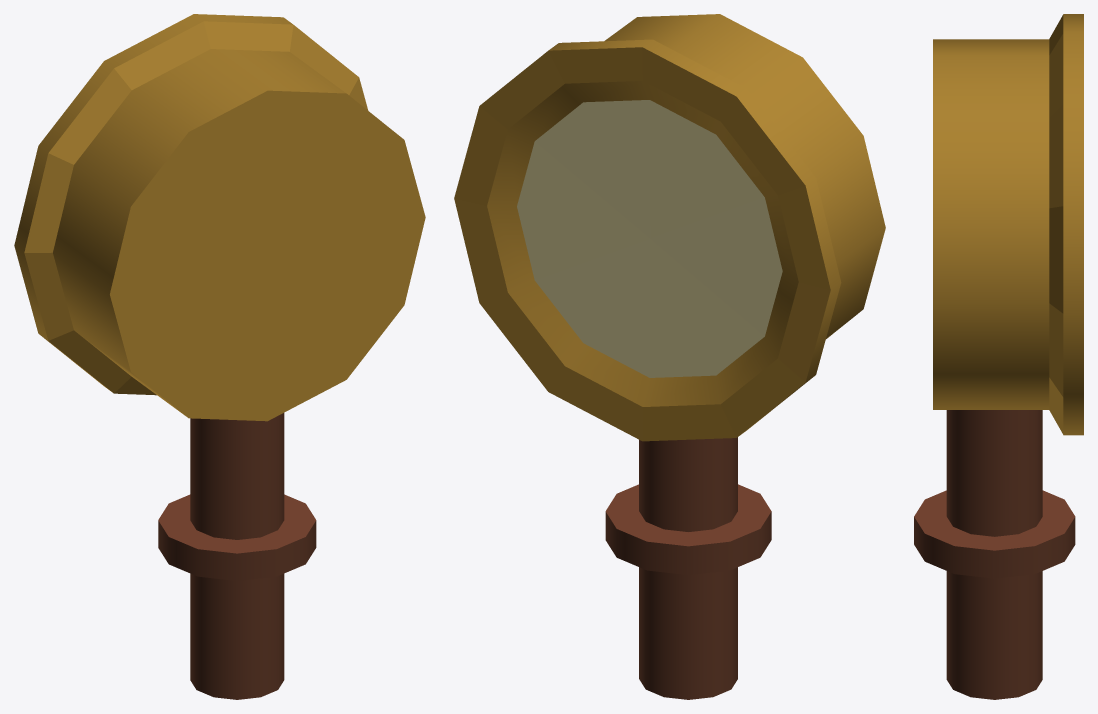
Rendered from relogio_pressao_001.fbx.
The picture shows the model from 3 angles, left to right: view 1: azimuth 30°, elevation 25°; view 2: azimuth 150°, elevation 25°; view 3: azimuth 270°, elevation 25°; orthographic projection. The views are drawn at different scales.
Visible parts, largest first — view 1: relogio_pressao_001; view 2: relogio_pressao_001; view 3: relogio_pressao_001.
Boxes of the visible parts, <box> form: relogio_pressao_001: <box>14,14,425,699</box>; relogio_pressao_001: <box>454,14,885,699</box>; relogio_pressao_001: <box>914,14,1083,699</box>.
Size of the model in its own units: 73.65 by 124 by 29.6.
